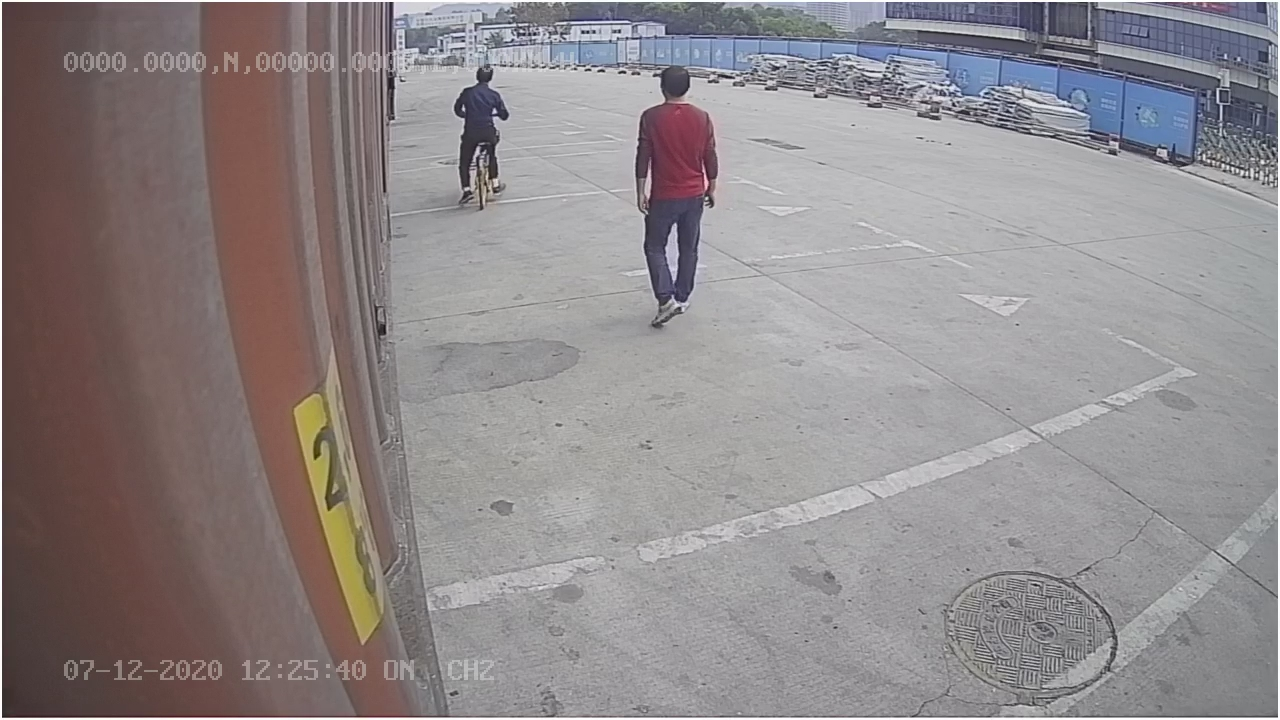person: (625, 60, 722, 334)
